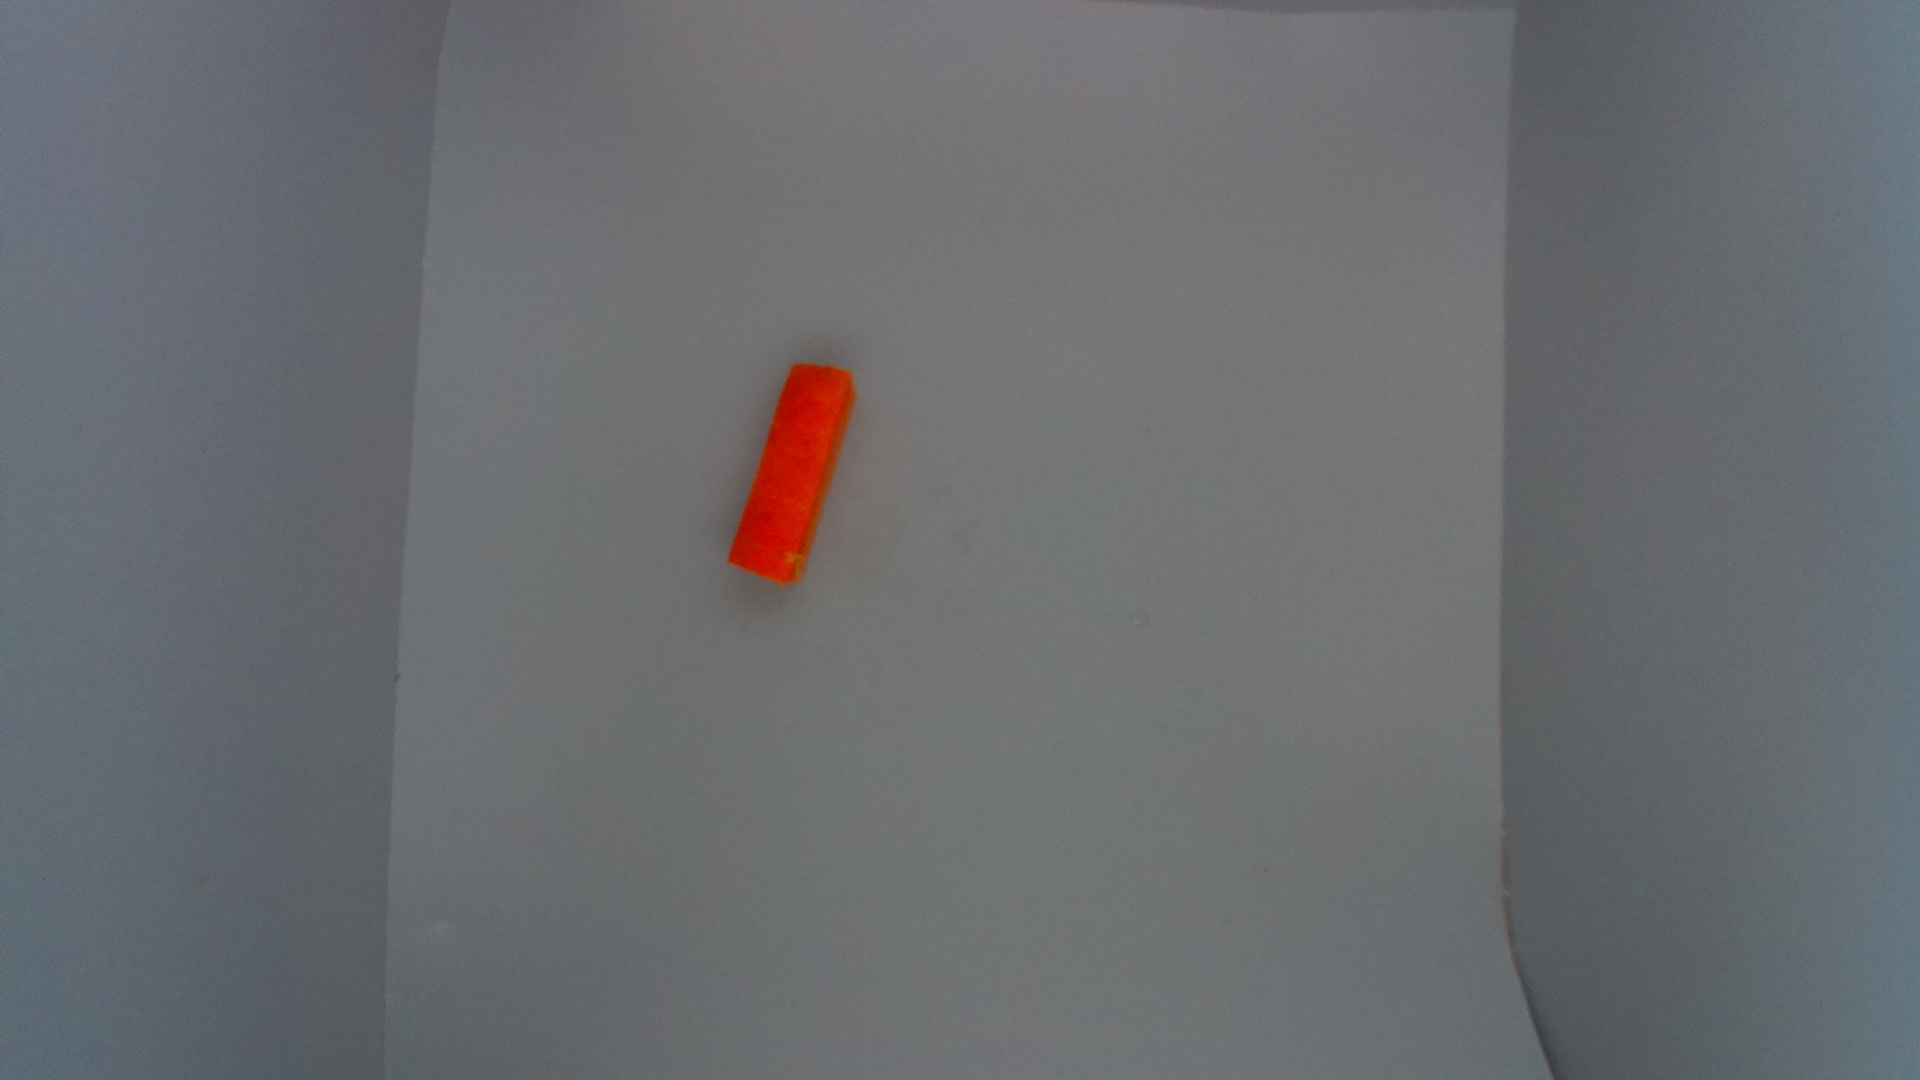carrot: (727, 360, 858, 589)
